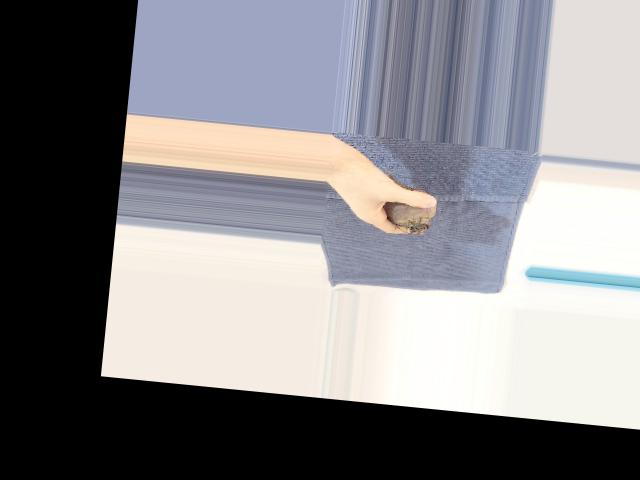beet: (382, 168, 440, 235)
